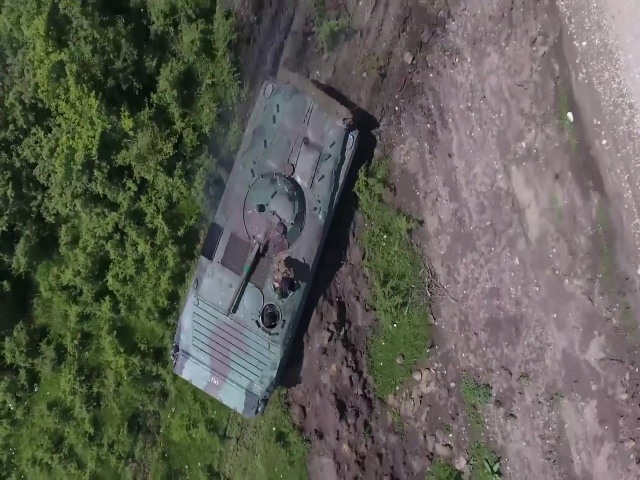vehicle: (171, 68, 361, 418)
